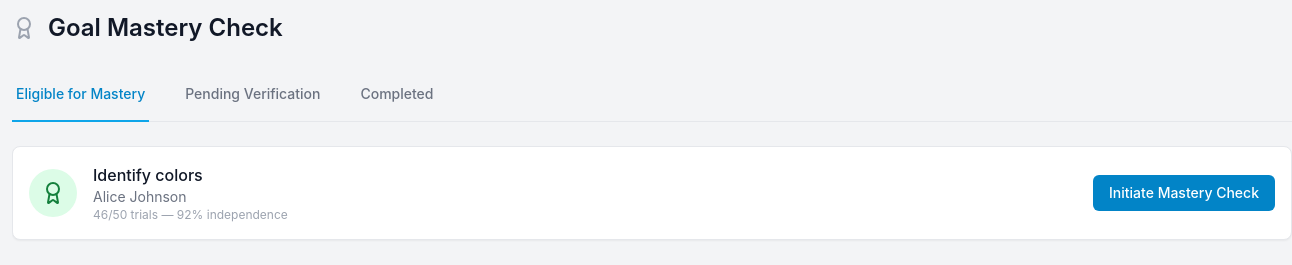
Test: MasteryCheckPage › switches to pending tab
This screenshot has width=1292, height=265.
expect the text "Identify colors" is shown: met, box [93, 165, 203, 185]
Click the button "Pending Verification": click(253, 95) [181, 68, 324, 122]
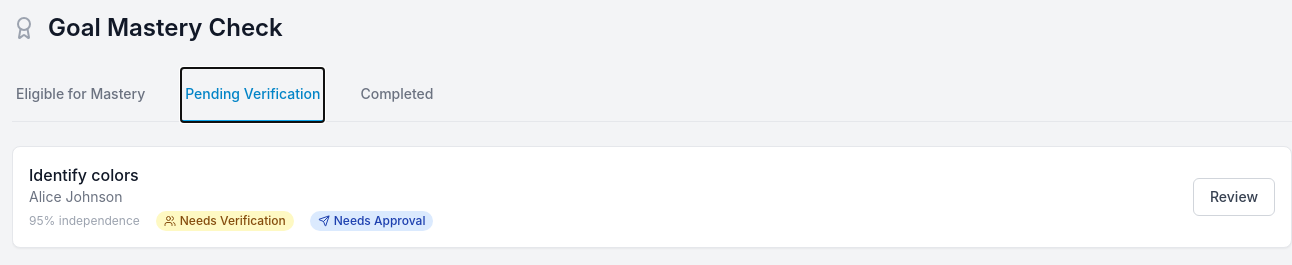
expect the text "Needs Verification" is shown: met, box [180, 213, 286, 228]
